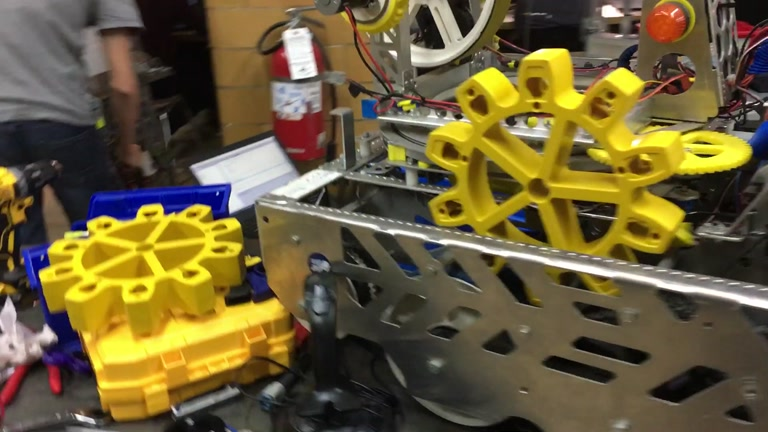gear: (425, 47, 687, 308), (37, 201, 248, 338)
